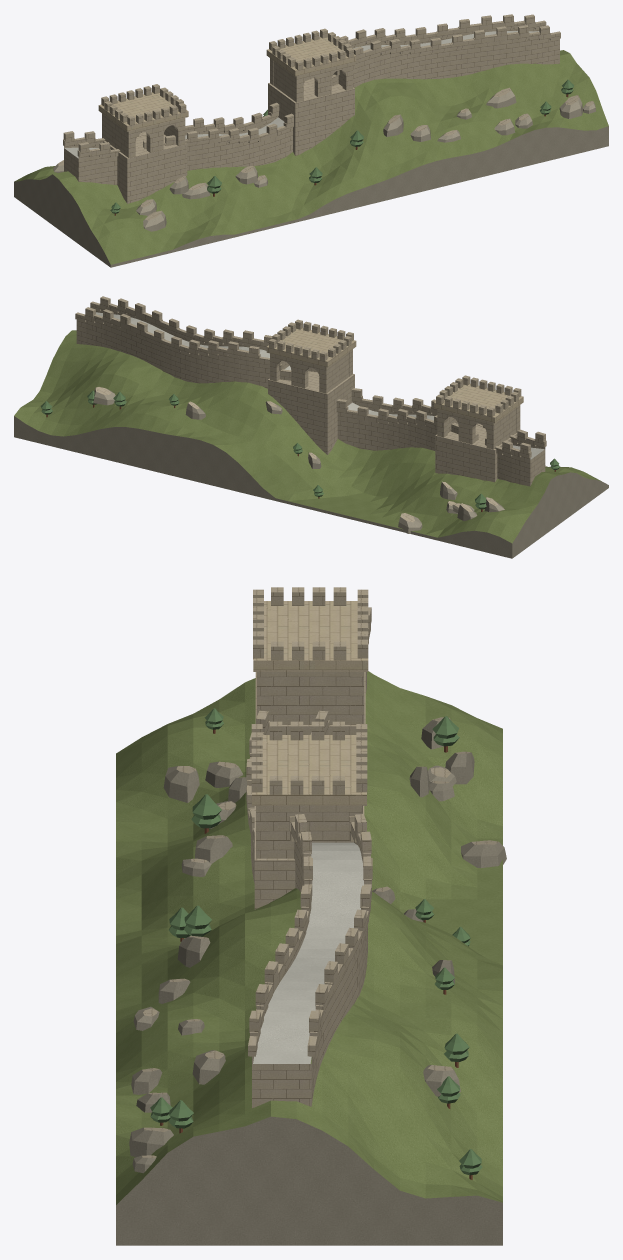
Rendered from badaling.glb.
3 views of the same model, one above another, from view 1: azimuth 30°, elevation 25°; view 2: azimuth 150°, elevation 25°; view 3: azimuth 270°, elevation 25° (orthographic). The views are drawn at different scales.
Parts seen in each view (by area): view 1: 八达岭长城; view 2: 八达岭长城; view 3: 八达岭长城.
Part boxes in pixels (x1=…): 八达岭长城: x1=14, y1=14, x2=608, y2=267; 八达岭长城: x1=14, y1=296, x2=608, y2=558; 八达岭长城: x1=116, y1=587, x2=506, y2=1245.
Size of the model in its own units: 22 by 5.3 by 7.47.
7 materials, 5 textured.
